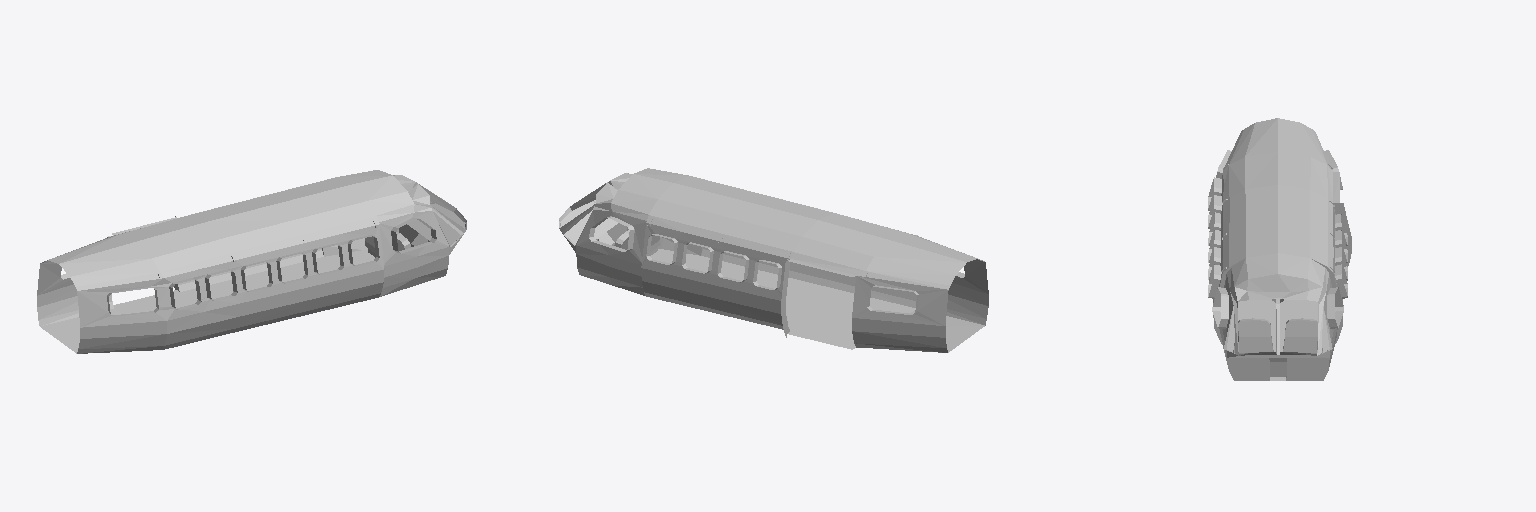
File: Plane_Interior.obj
The picture shows the model from 3 angles: view 1: azimuth 30°, elevation 25°; view 2: azimuth 150°, elevation 25°; view 3: azimuth 270°, elevation 25°; orthographic projection.
Parts seen in each view (by area): view 1: polygon0; view 2: polygon0; view 3: polygon0.
Part boxes in pixels (x1,y1,x2,y2): polygon0: (37, 170, 466, 353); polygon0: (559, 168, 988, 352); polygon0: (1208, 118, 1351, 380).
Size of the model in its own units: 1.42 by 0.3359 by 0.4478.